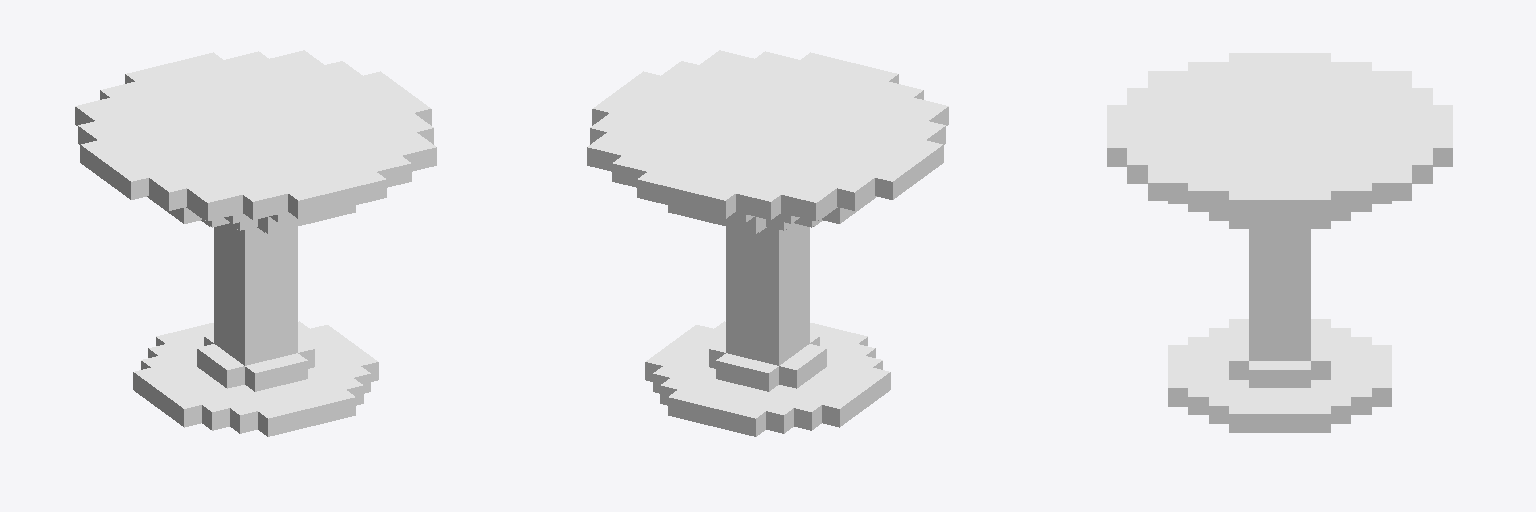
The model's file is table.vox-1.obj.
3 renders of one model, left to right at view 1: azimuth 30°, elevation 25°; view 2: azimuth 150°, elevation 25°; view 3: azimuth 270°, elevation 25°, orthographic.
Parts seen in each view (by area): view 1: object 1; view 2: object 1; view 3: object 1.
Part boxes in pixels (bbox=[...]): object 1: bbox=[75, 50, 436, 436]; object 1: bbox=[587, 50, 948, 436]; object 1: bbox=[1107, 53, 1452, 432].
Bounding box in the file's own units: 1.7 × 1.4 × 1.7.